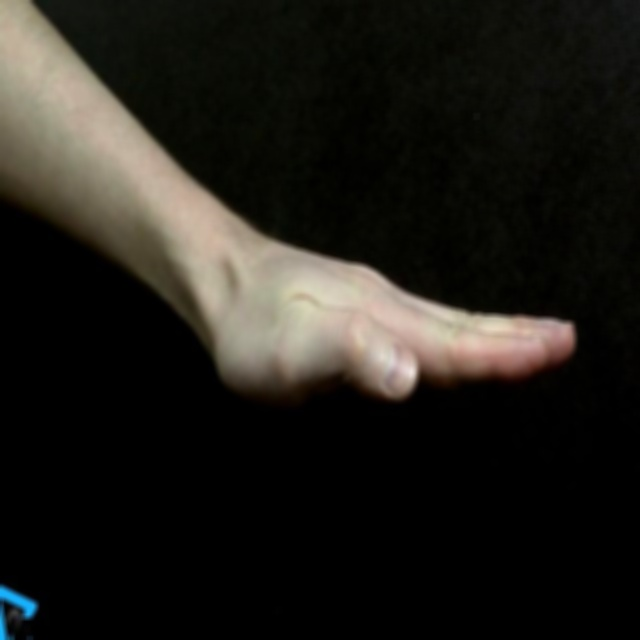Paper: (208, 244, 580, 407)
